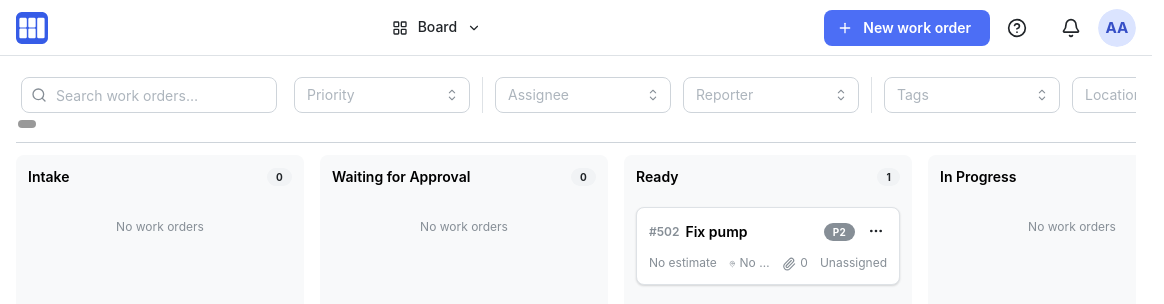
Test case: app routing › renders the authenticated shell and board at /
Expected: the text "Fix pump" is shown, top-left (686, 223), bottom-right (748, 240)
Expected: the link named "Workplace Facilities Tickets System — go to the board" is shown, top-left (16, 12), bottom-right (48, 44)
Click the button with aria-label "Ada Admin".
click(1117, 28)  # box top-left (1098, 8), bottom-right (1136, 46)
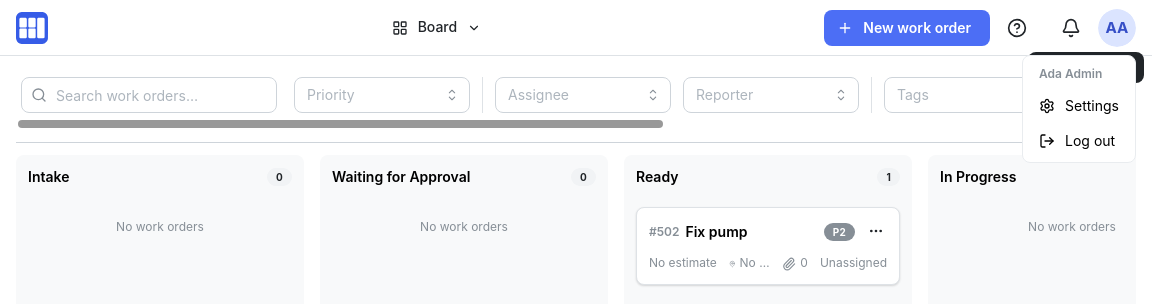
Now the menu item "Settings" is shown, box top-left (1039, 97), bottom-right (1119, 114)
